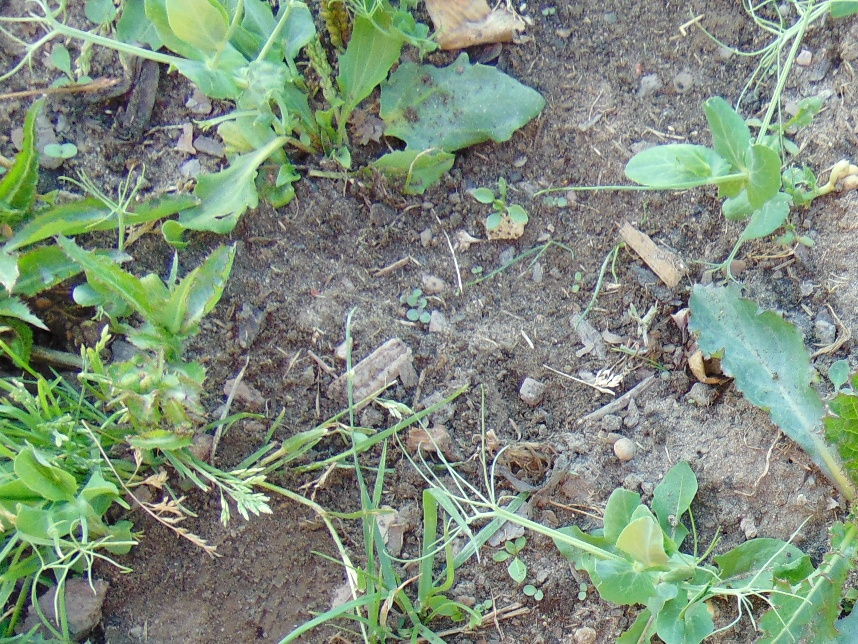crop: (445, 468, 792, 644), (623, 90, 858, 273), (143, 1, 302, 131), (736, 1, 858, 152), (4, 445, 123, 580), (92, 183, 190, 257), (15, 2, 110, 57), (352, 1, 436, 57), (74, 286, 130, 328)
weed: (1, 95, 183, 364), (685, 282, 858, 522), (755, 292, 858, 642), (317, 490, 491, 644), (53, 232, 238, 372), (365, 53, 548, 193), (270, 347, 430, 487), (179, 128, 365, 233), (292, 2, 401, 172), (2, 363, 212, 445), (117, 441, 272, 527), (1, 582, 122, 644), (720, 533, 844, 586), (476, 173, 529, 235), (655, 461, 706, 517), (44, 43, 92, 85), (492, 536, 531, 583), (612, 608, 658, 644), (84, 1, 117, 31), (405, 287, 429, 323), (44, 139, 77, 160), (521, 582, 547, 599), (578, 582, 586, 603)
